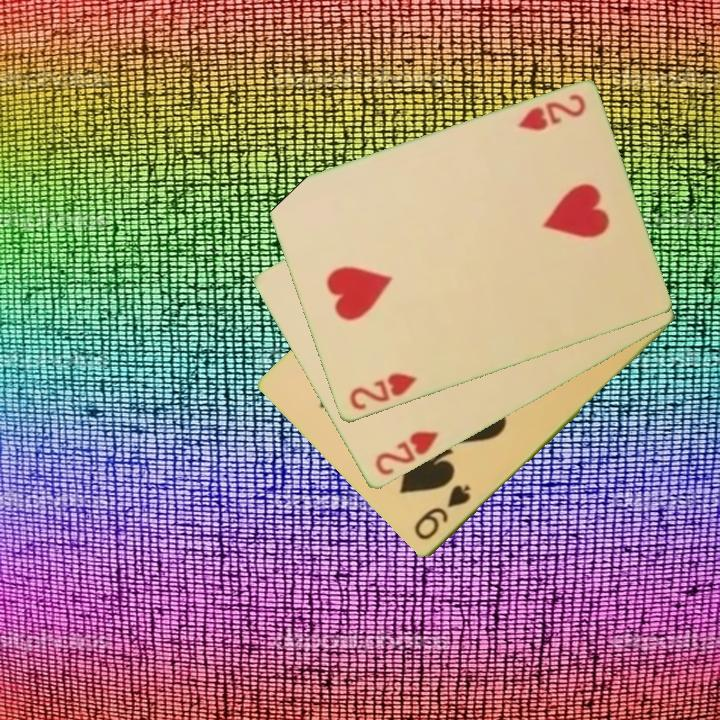2h: (371, 428, 441, 479), (345, 369, 420, 414), (514, 91, 588, 135)
9s: (410, 481, 474, 544)
